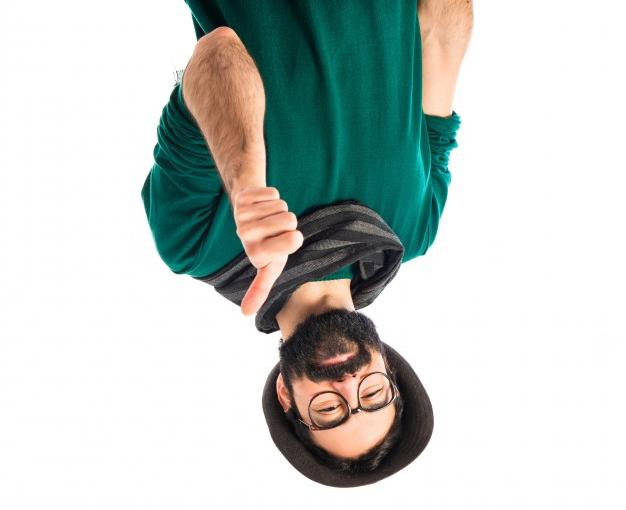thumbsdown: (233, 186, 304, 316)
